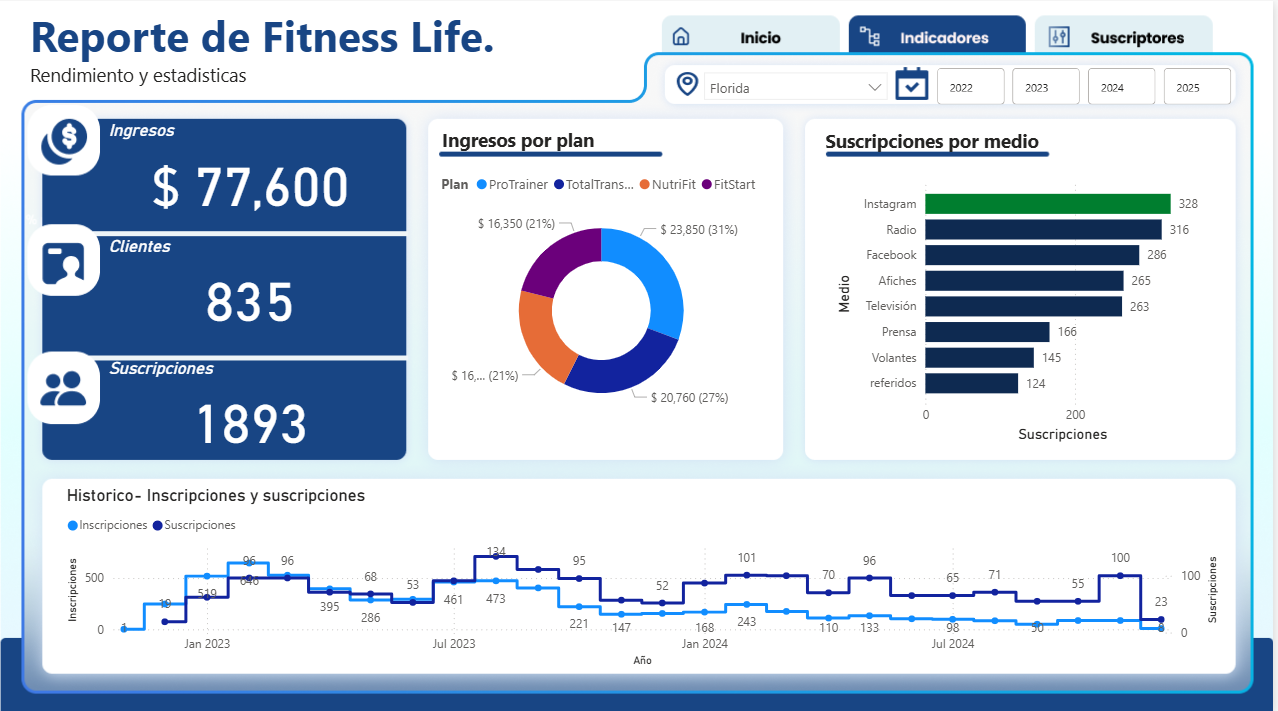

This screenshot's page, from the dashboard's own definition file:
{"tool":"powerbi","page":{"name":"Indicadores","canvas":[1280,720],"ordinal":1},"visuals":[{"type":"textbox","box":[25.4,0,508.5,95.8],"z":0},{"type":"textbox","box":[440,103.8,236.2,63.8],"z":1000},{"type":"donutChart","fields":{"Category":["Planes.Plan"],"Y":["Medidas.Ingresos"]},"box":[439.4,163.4,329.6,266.2],"z":2000},{"type":"lineChart","title":"Historico- Inscripciones y suscripciones","fields":{"Category":["DimCalendario.Date.Variación.Jerarquía de fechas.Año","DimCalendario.Date.Variación.Jerarquía de fechas.Mes"],"Y":["Medidas.Inscripciones"],"Y2":["Medidas.Suscripciones"]},"box":[62.5,487.5,1167.5,187.5],"z":3000},{"type":"card","title":"Ingresos","fields":{"Values":["Medidas.Ingresos"]},"box":[104.3,120.3,294.2,98.6],"z":4000},{"type":"card","title":"Clientes","fields":{"Values":["Medidas.Clientes"]},"box":[104.3,236.2,294.2,98.6],"z":5000},{"type":"card","title":"Suscripciones","fields":{"Values":["Medidas.Suscripciones"]},"box":[104.3,359.4,294.2,98.6],"z":6000},{"type":"slicer","fields":{"Values":["Suscripciones.Ciudad"]},"box":[698.6,62.3,204.3,47.8],"z":7000},{"type":"advancedSlicerVisual","fields":{"Values":["DimCalendario.Date.Variación.Jerarquía de fechas.Año"]},"box":[937.7,62.3,307.2,47.8],"z":8000},{"type":"shape","box":[657.5,15,196.2,32.5],"z":9000},{"type":"shape","box":[1033.8,15,196.2,32.5],"z":10000},{"type":"textbox","box":[825,105,236.2,63.8],"z":11000},{"type":"clusteredBarChart","fields":{"Category":["Medio.Medio"],"Y":["Medidas.Suscripciones"]},"box":[835,170,386.2,277.5],"z":12000}]}

Visuals, with their boxes in screenshot pixels (x1, y1, x2, y2), scaled from the page's 1280x720 canvas onto the 1278x711 screenshot:
textbox: [left=25, top=0, right=533, bottom=95]
textbox: [left=439, top=103, right=675, bottom=166]
donutChart - Planes.Plan x Medidas.Ingresos: [left=439, top=161, right=768, bottom=424]
"Historico- Inscripciones y suscripciones" lineChart: [left=62, top=481, right=1228, bottom=667]
"Ingresos" card: [left=104, top=119, right=398, bottom=216]
"Clientes" card: [left=104, top=233, right=398, bottom=331]
"Suscripciones" card: [left=104, top=355, right=398, bottom=452]
slicer - Suscripciones.Ciudad: [left=698, top=62, right=901, bottom=109]
advancedSlicerVisual - DimCalendario.Date.Variación.Jerarquía de fechas.Año: [left=936, top=62, right=1243, bottom=109]
shape: [left=656, top=15, right=852, bottom=47]
shape: [left=1032, top=15, right=1228, bottom=47]
textbox: [left=824, top=104, right=1060, bottom=167]
clusteredBarChart - Medio.Medio x Medidas.Suscripciones: [left=834, top=168, right=1219, bottom=442]
